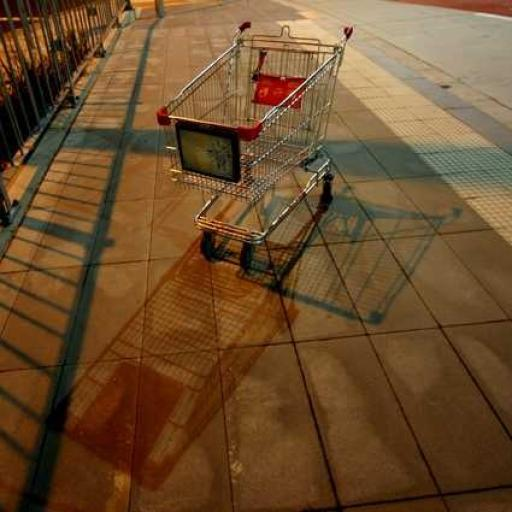shopping_cart: (157, 22, 357, 272)
